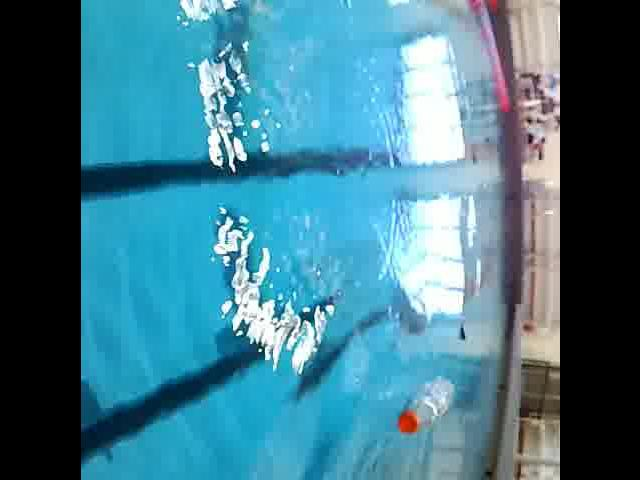Bottle: (394, 372, 456, 440)
